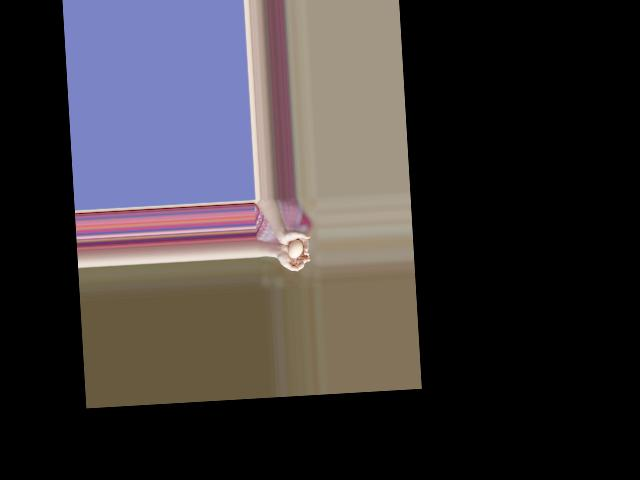egg: (287, 239, 304, 258)
